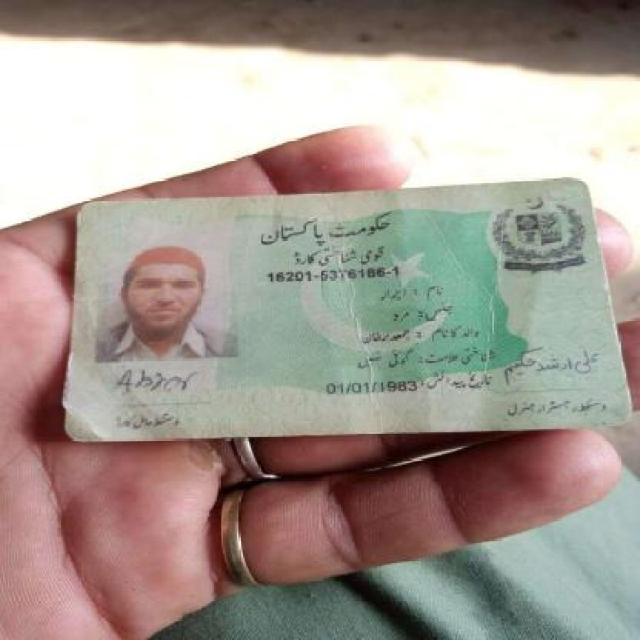Front: (57, 181, 628, 437)
